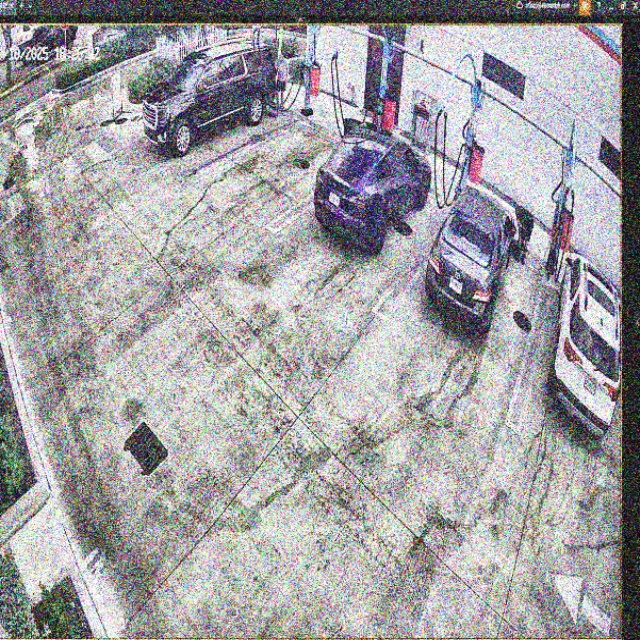Car: (141, 42, 279, 160), (315, 123, 432, 252), (426, 183, 516, 331)
